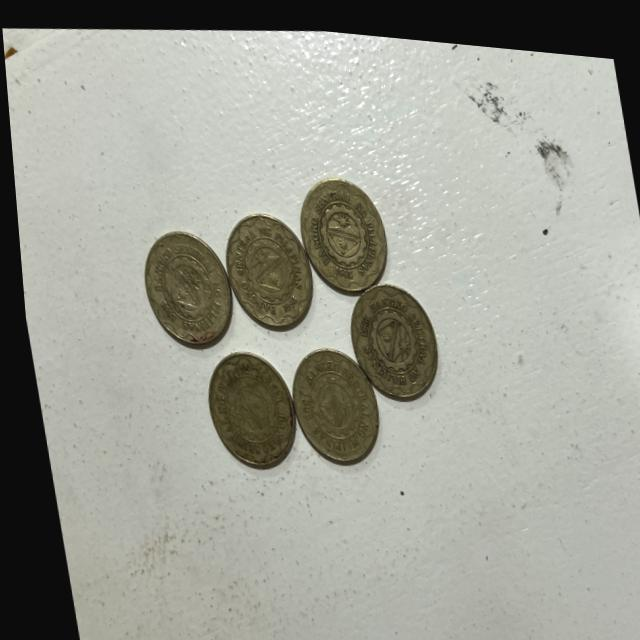5_Old_Back: (288, 154, 393, 295), (210, 198, 314, 332), (278, 335, 380, 467), (337, 272, 436, 397), (194, 347, 292, 468), (133, 229, 234, 346)
